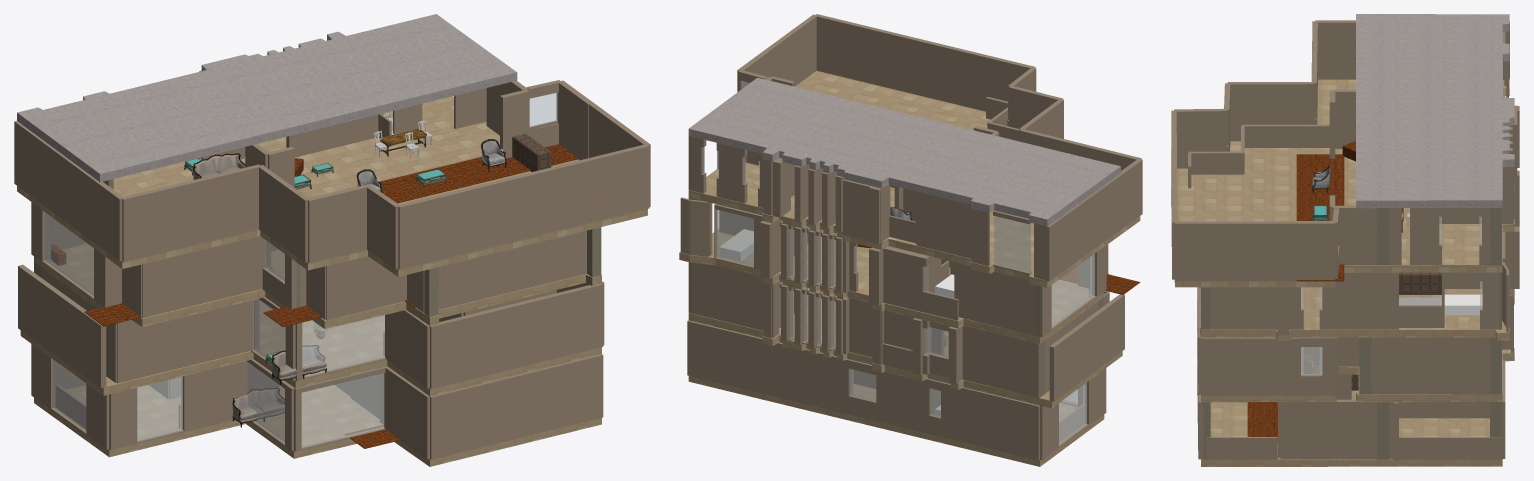
File: villa-e1.glb
3 views of the same model, side by side, from view 1: azimuth 30°, elevation 25°; view 2: azimuth 150°, elevation 25°; view 3: azimuth 270°, elevation 25° (orthographic). The views are drawn at different scales.
Parts seen in each view (by area): view 1: floor_second, floor_stilt, floor_lower-ground, floor_first; view 2: floor_second, floor_stilt, floor_first, floor_lower-ground; view 3: floor_second, floor_lower-ground, floor_stilt, floor_first.
Part boxes in pixels (x1,y1,x2,y2): floor_second: (14,14,650,276); floor_stilt: (18,262,604,396); floor_lower-ground: (31,344,603,466); floor_first: (31,202,601,328); floor_second: (688,14,1142,287); floor_stilt: (688,262,1124,408); floor_first: (679,197,1140,343); floor_lower-ground: (687,320,1106,466); floor_second: (1171,14,1519,287); floor_lower-ground: (1197,331,1505,466); floor_stilt: (1197,287,1514,402); floor_first: (1200,170,1519,340).
Size of what is drawn, in the model's own units: 20.58 by 12.35 by 14.66.
16 materials, 13 textured.
